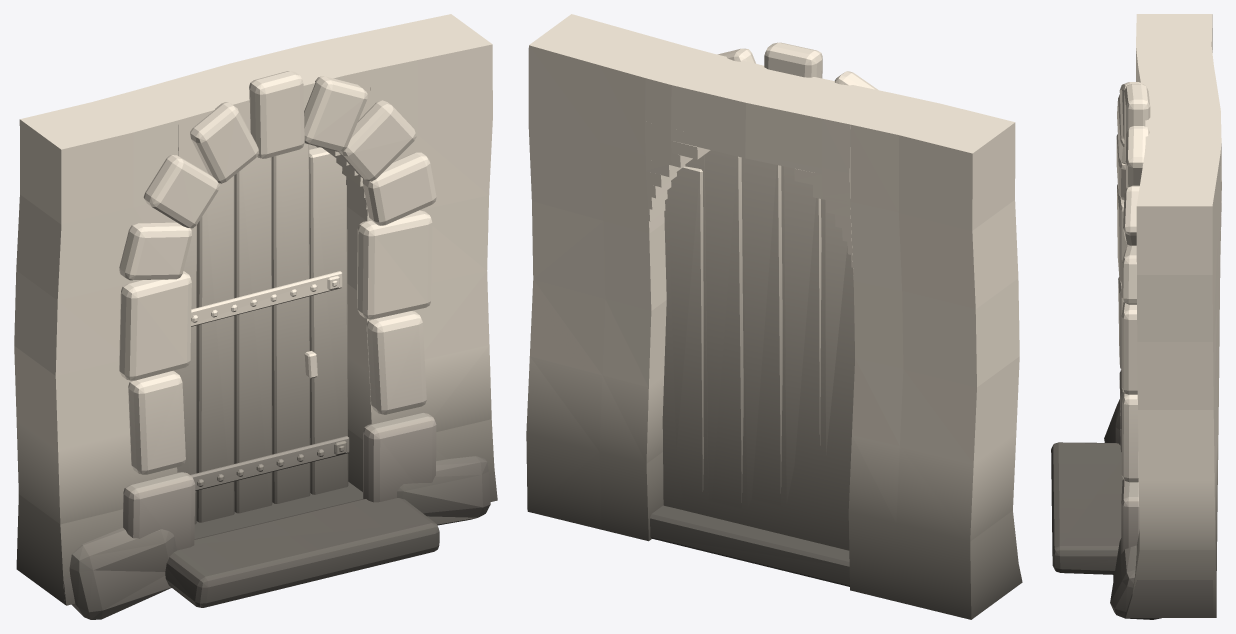
File: SM_VK_Wall_Stone_Door.fbx
3 views of the same model, side by side, from view 1: azimuth 30°, elevation 25°; view 2: azimuth 150°, elevation 25°; view 3: azimuth 270°, elevation 25° (orthographic). The views are drawn at different scales.
Parts seen in each view (by area): view 1: SM_VK_Wall_Stone_Door.001; view 2: SM_VK_Wall_Stone_Door.001; view 3: SM_VK_Wall_Stone_Door.001.
Boxes of the visible parts, x1,y1,x2,y2 form: SM_VK_Wall_Stone_Door.001: [14, 14, 497, 619]; SM_VK_Wall_Stone_Door.001: [526, 14, 1022, 619]; SM_VK_Wall_Stone_Door.001: [1051, 14, 1221, 619].
Bounding box in the file's own units: 3.04 × 3.23 × 1.13.
